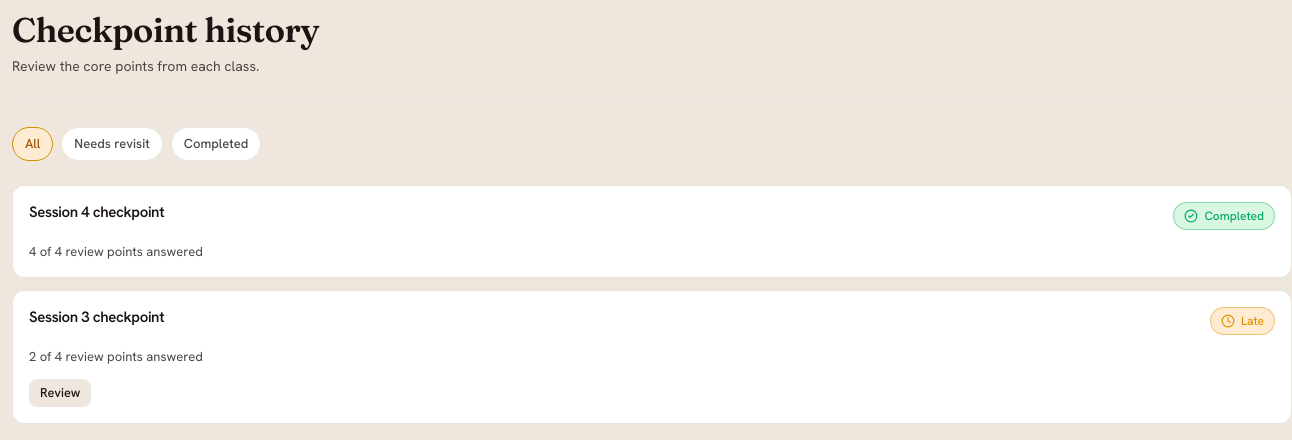
CheckpointHistory — S039 › filters to only the items that need a revisit
Click the button "Needs revisit" at (112, 144), box [61,127,163,161]
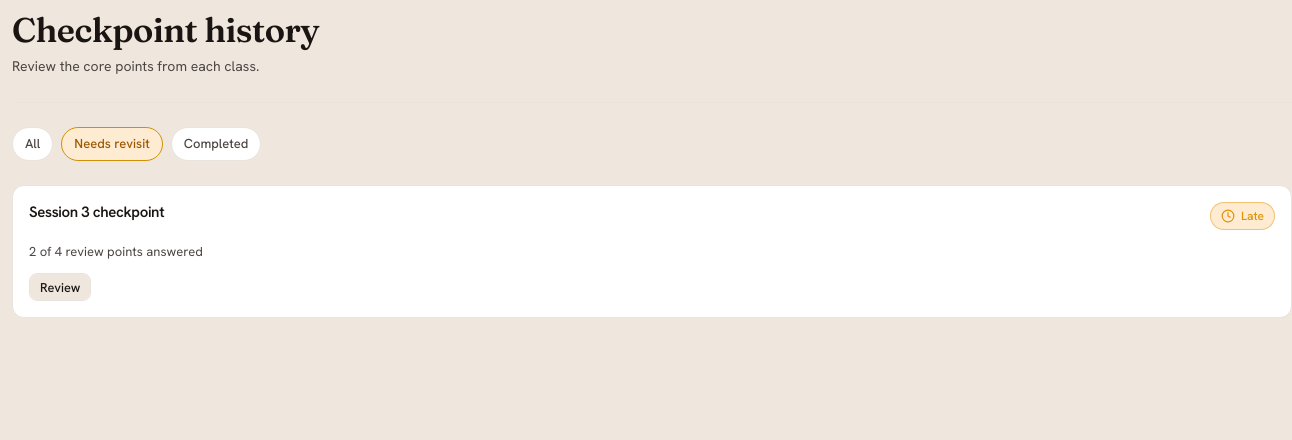
Check: the heading "Session 3 checkpoint" is shown, box [29,202,164,222]
Check: the heading "Session 4 checkpoint" is gone
